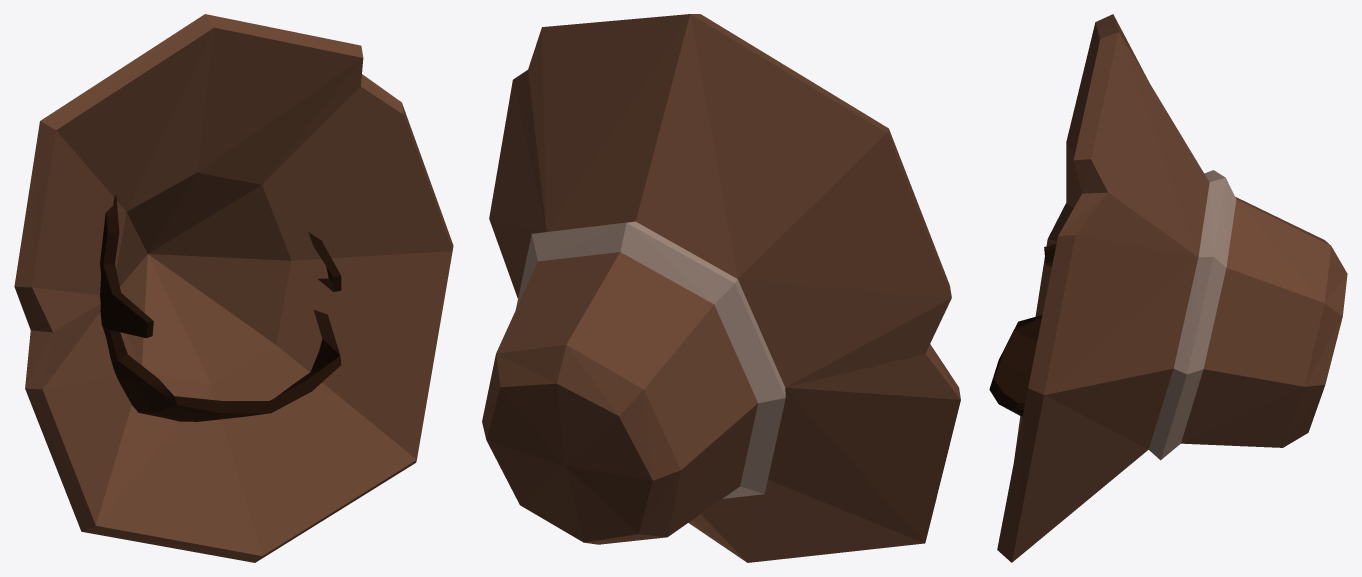
File: Hat 09.FBX
3 renders of one model, left to right at view 1: azimuth 30°, elevation 25°; view 2: azimuth 150°, elevation 25°; view 3: azimuth 270°, elevation 25°, orthographic. The views are drawn at different scales.
Parts seen in each view (by area): view 1: Hat 09, Hair Headgear; view 2: Hat 09; view 3: Hat 09, Hair Headgear.
Boxes of the visible parts, bbox=[...] form: Hat 09: bbox=[14, 14, 453, 562]; Hair Headgear: bbox=[100, 194, 341, 421]; Hat 09: bbox=[482, 14, 960, 562]; Hat 09: bbox=[997, 14, 1347, 562]; Hair Headgear: bbox=[989, 243, 1056, 416].
Size of the model in its own units: 59.19 by 68.99 by 43.26.
